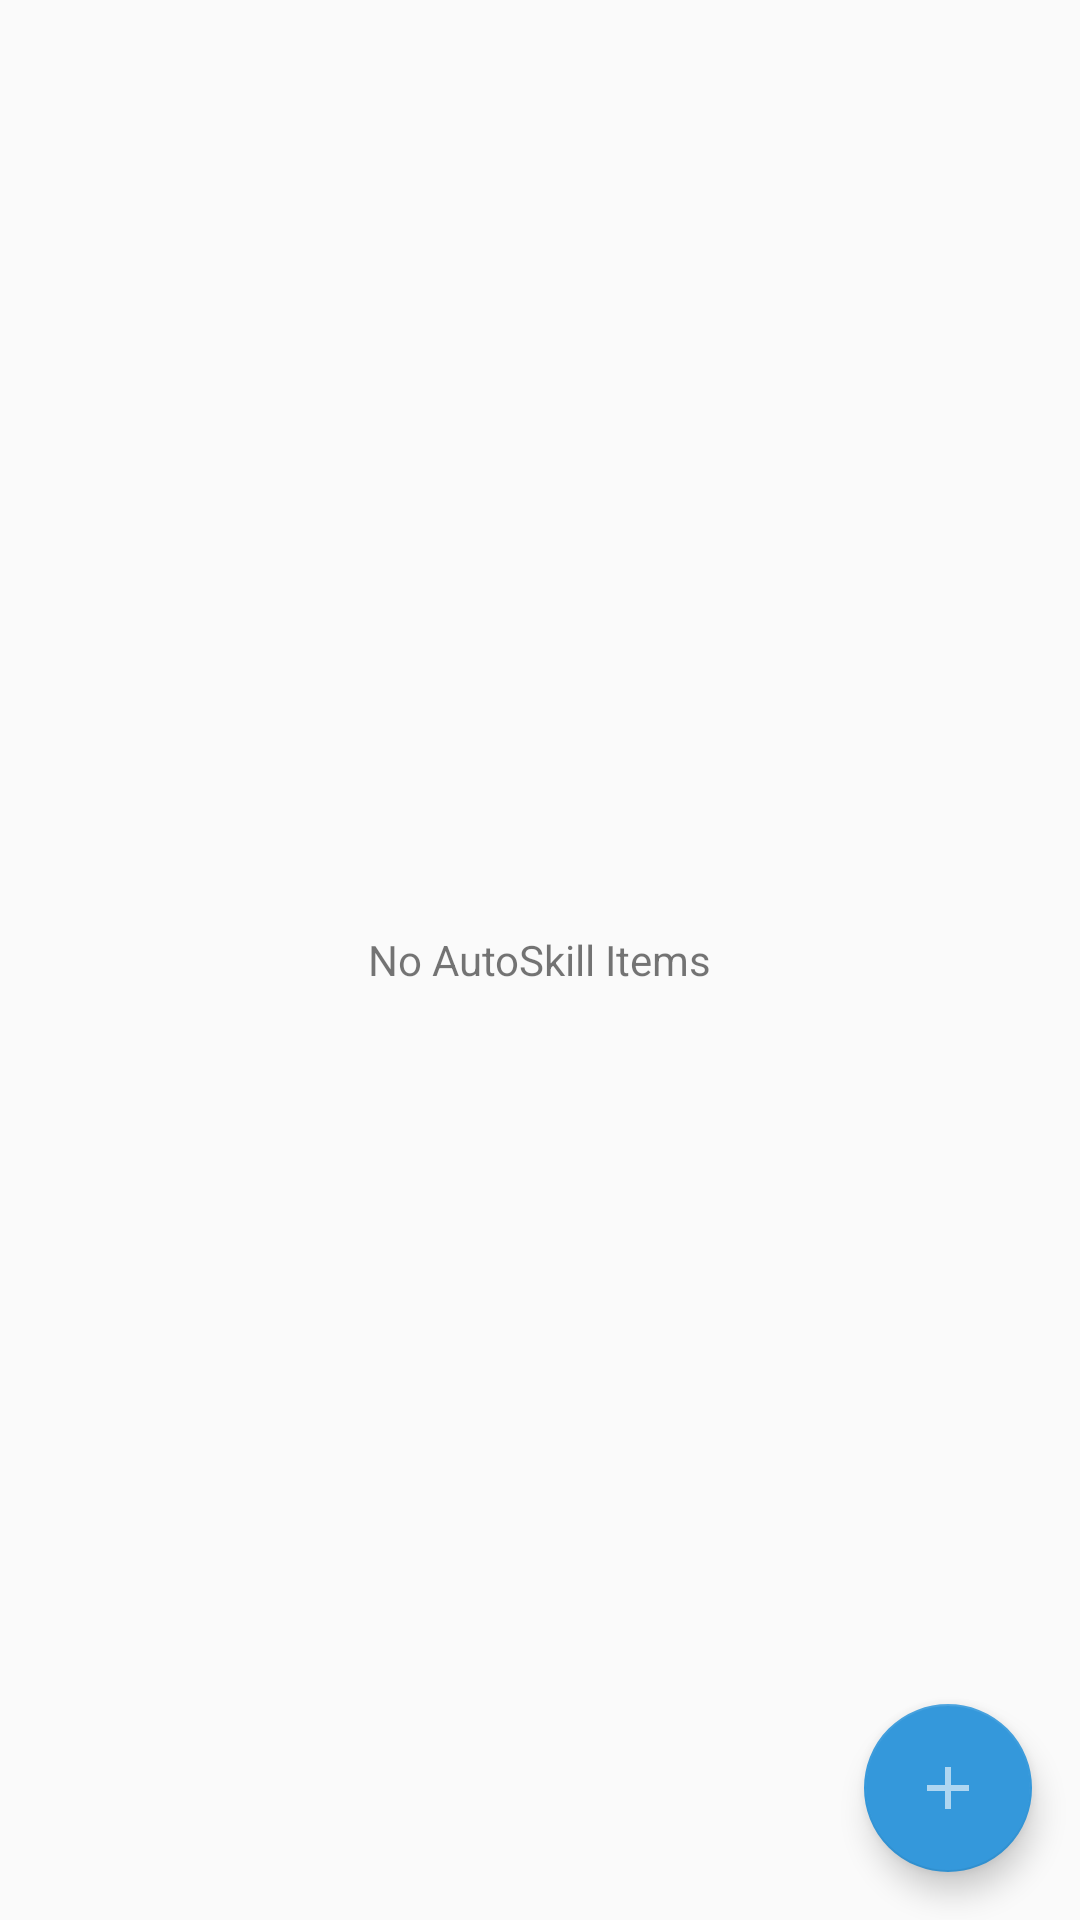

Where icons sit on this 1080×1920 app screen, as (x1, y1, x2, y2):
plus: (864, 1704, 1032, 1872)
